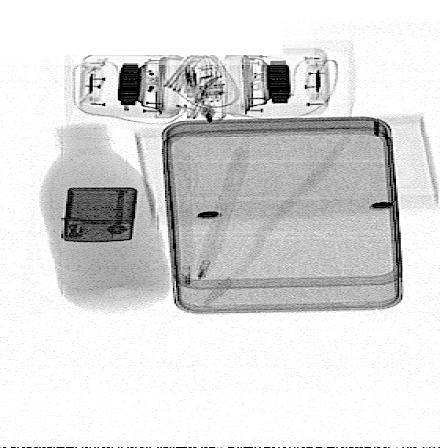Lighter: (63, 187, 139, 242)
